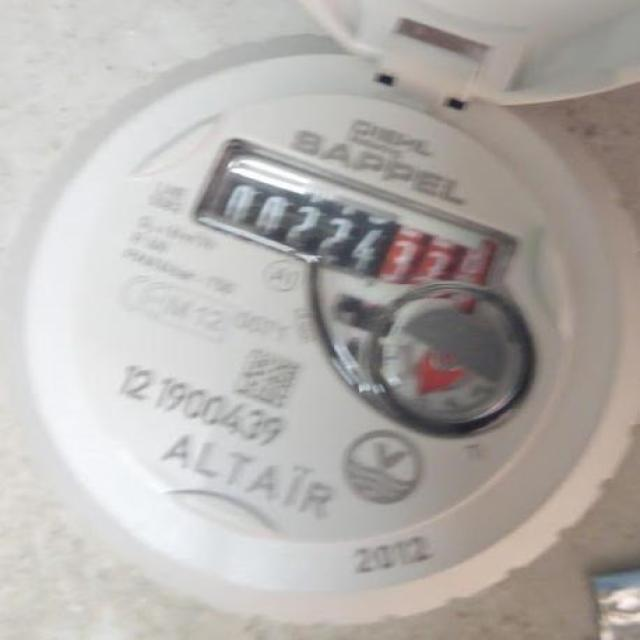gaz_meter: (15, 29, 628, 598)
indication: (194, 142, 505, 307)
